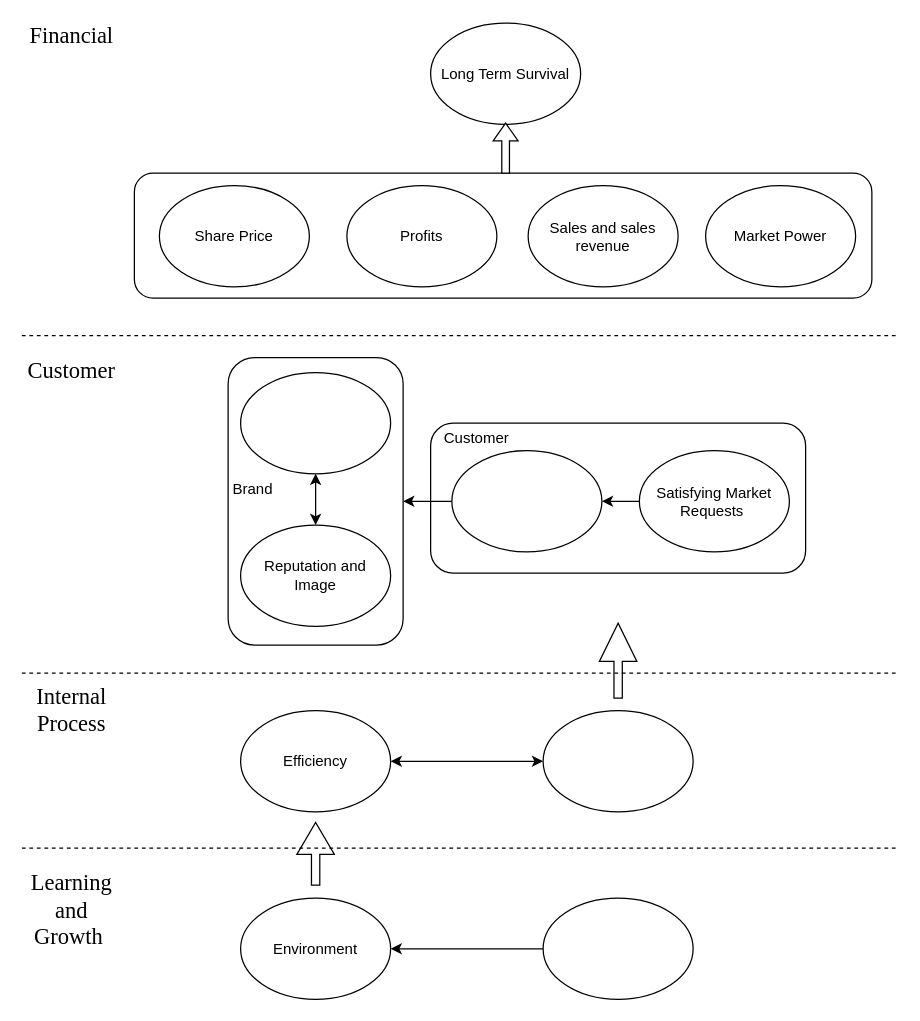
The diagram is 920 pixels wide and 1021 high, and some of its shapes have lost their labels. Each missing label, with the centre of its shape:
Brand Recognition: (x=315, y=422)
Customer Satisfaction: (x=526, y=500)
Quality and Innovation: (x=617, y=760)
Social Issues: (x=617, y=948)
